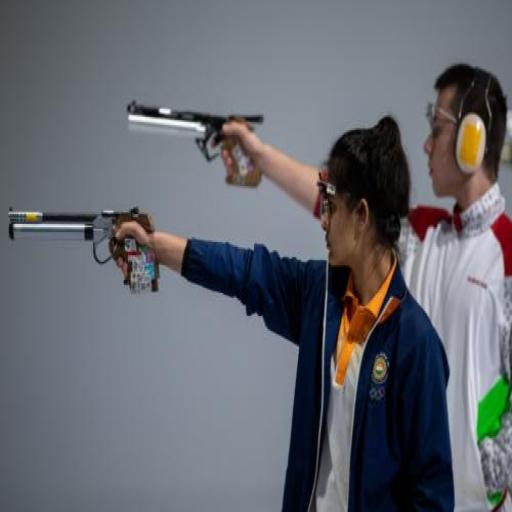shooting: (171, 50, 512, 473), (110, 112, 458, 510)
